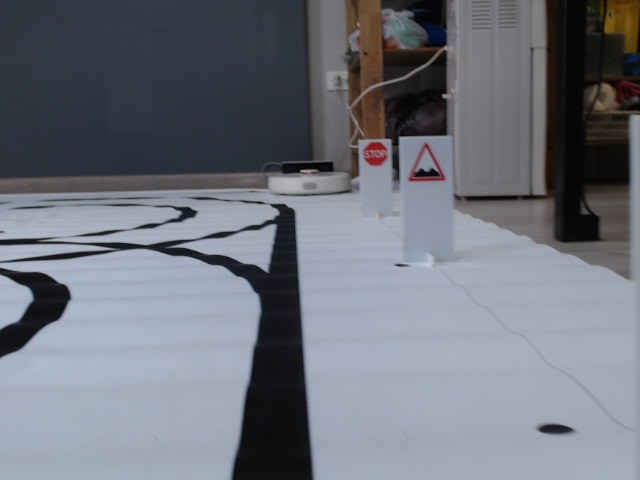Nerov: (407, 140, 447, 183)
Stop: (362, 141, 388, 167)
